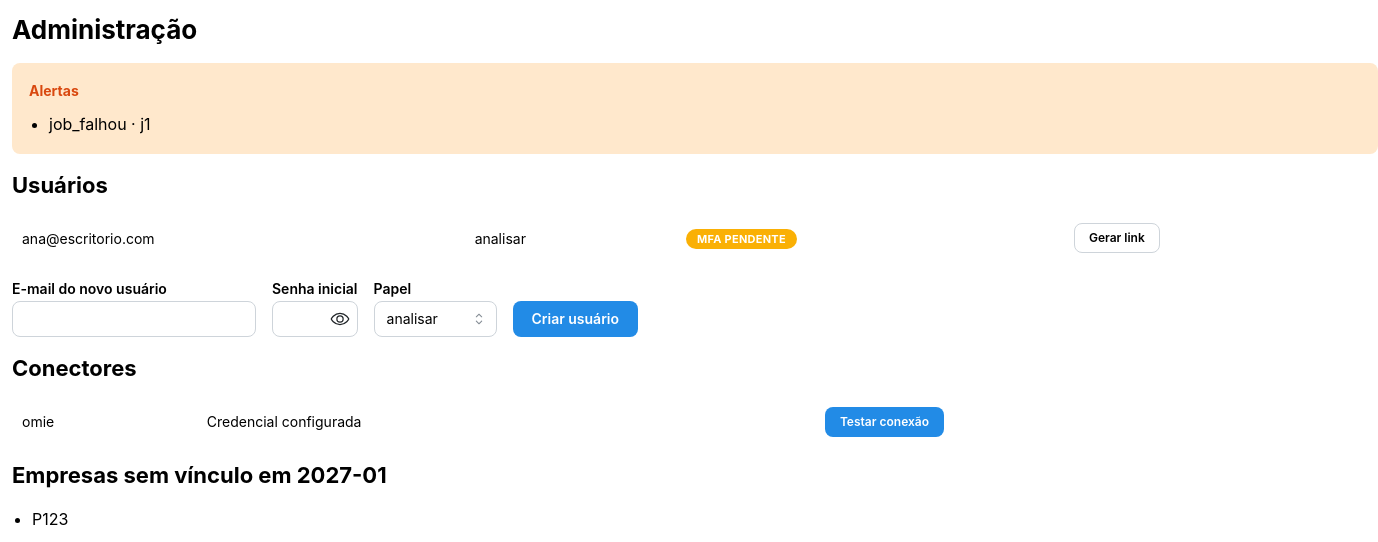
Test: administração › mostra credencial recusada no teste
What coordinates should you click on to do the following:
click the button "Testar conexão"
I would click on:
 (884, 422)
Its box is [825, 407, 944, 437].
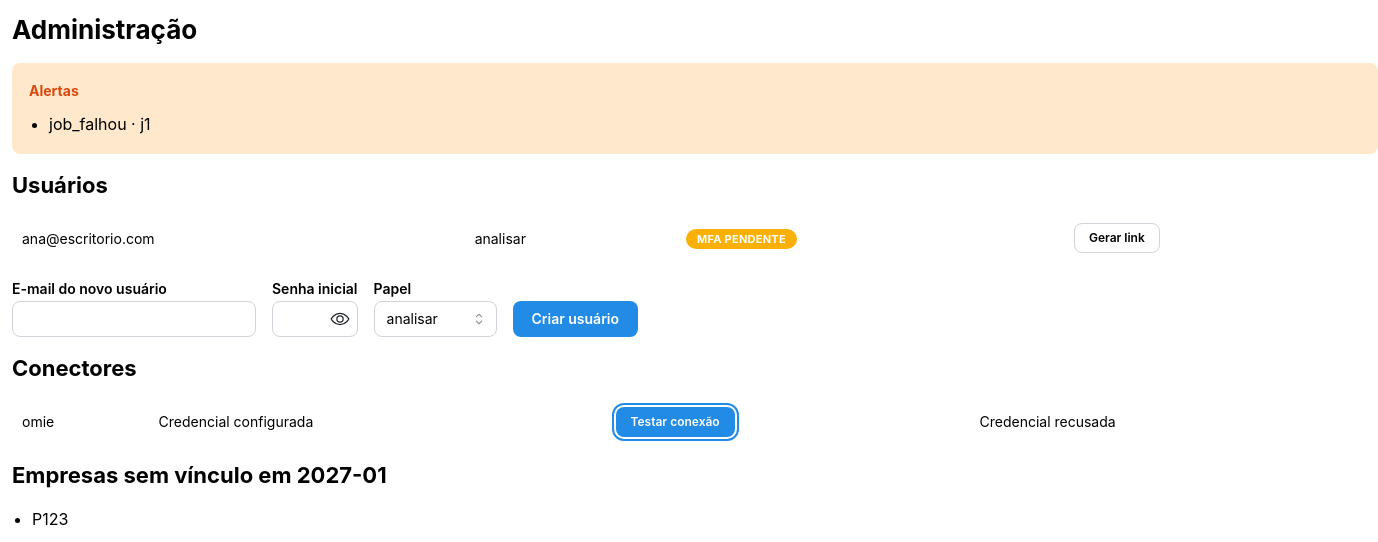
Check: the text "Credencial recusada" is shown, box [970, 400, 1377, 444]
